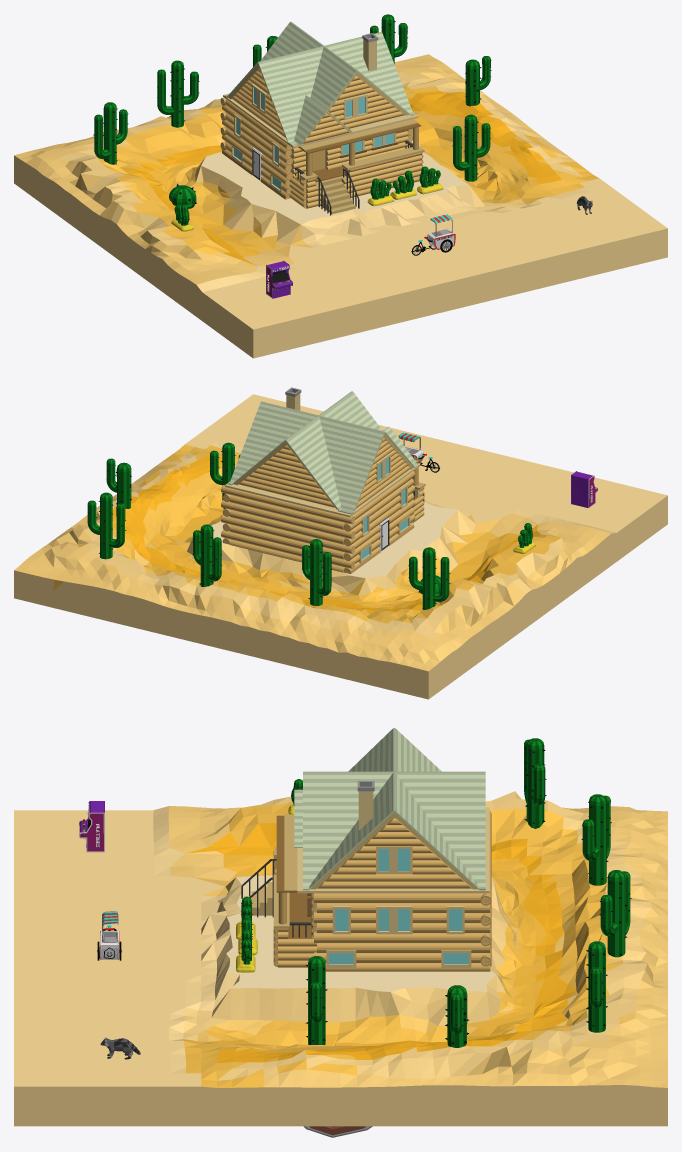
The picture shows the model from 3 angles, top to bottom: view 1: azimuth 30°, elevation 25°; view 2: azimuth 150°, elevation 25°; view 3: azimuth 270°, elevation 25°; orthographic projection. The views are drawn at different scales.
Parts seen in each view (by area): view 1: Cube.001, Cube.1516, Cylinder.037, Cylinder.044, Cylinder.045, Cylinder.038, Cylinder.042, OBJRANDOM_ARCADE, VEHICLES_SNOWBAL_BIKE, Cylinder.039, Cylinder.041, Sphere.023; view 2: Cube.001, Cube.1516, Cylinder.042, Cylinder.045, Cylinder.044, Cylinder.043, Cylinder.038, Cylinder.037, OBJRANDOM_ARCADE, VEHICLES_SNOWBAL_BIKE; view 3: Cube.001, Cube.1516, Cylinder.043, Cylinder.044, Cylinder.045, Cylinder.042, Cylinder.037, Cylinder.038, OBJRANDOM_ARCADE, VEHICLES_SNOWBAL_BIKE, Cylinder.041.
Boxes of the visible parts, x1,y1,x2,y2 form: Cube.001: [14, 54, 667, 358]; Cube.1516: [220, 21, 424, 215]; Cylinder.037: [452, 114, 490, 181]; Cylinder.044: [157, 60, 199, 127]; Cylinder.045: [93, 102, 128, 164]; Cylinder.038: [465, 56, 491, 106]; Cylinder.042: [370, 14, 407, 63]; OBJRANDOM_ARCADE: [266, 260, 292, 298]; VEHICLES_SNOWBAL_BIKE: [411, 214, 455, 255]; Cylinder.039: [367, 178, 394, 205]; Cylinder.041: [417, 166, 443, 194]; Sphere.023: [169, 184, 196, 208]; Cube.001: [14, 394, 667, 699]; Cube.1516: [221, 387, 425, 573]; Cylinder.042: [87, 492, 125, 559]; Cylinder.045: [408, 547, 450, 609]; Cylinder.044: [302, 539, 331, 605]; Cylinder.043: [192, 524, 221, 586]; Cylinder.038: [106, 458, 131, 508]; Cylinder.037: [210, 442, 240, 508]; OBJRANDOM_ARCADE: [571, 471, 597, 508]; VEHICLES_SNOWBAL_BIKE: [398, 432, 439, 472]; Cube.001: [14, 791, 667, 1126]; Cube.1516: [241, 728, 491, 971]; Cylinder.043: [599, 870, 631, 957]; Cylinder.044: [581, 794, 611, 885]; Cylinder.045: [524, 738, 546, 828]; Cylinder.042: [586, 941, 607, 1032]; Cylinder.037: [305, 956, 327, 1045]; Cylinder.038: [445, 985, 468, 1047]; OBJRANDOM_ARCADE: [79, 801, 104, 852]; VEHICLES_SNOWBAL_BIKE: [97, 911, 121, 960]; Cylinder.041: [236, 929, 255, 972].
Size of the model in its own units: 4002 by 2343 by 4001.
Materials: 43 (3 with a texture image).
